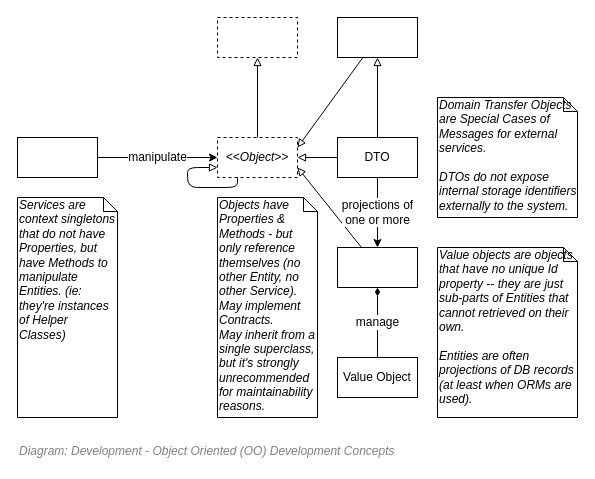
Some shapes in this 595 by 479 pixel diagram are drawn without their labels. The centre of each missing label's shape, as x and y in pixels:
"Contracts" belongs at pixel 257 37.
"Entity" belongs at pixel 377 267.
"Message" belongs at pixel 377 37.
"Service" belongs at pixel 57 157.
